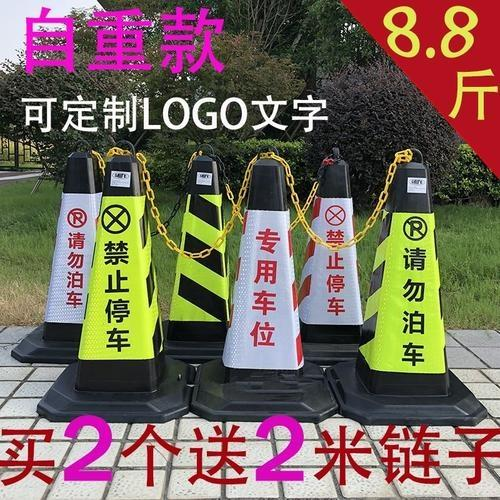cone_barrel: (63, 144, 180, 409), (356, 154, 465, 405), (214, 159, 319, 403), (26, 153, 106, 353), (164, 151, 240, 356), (296, 151, 368, 349)
